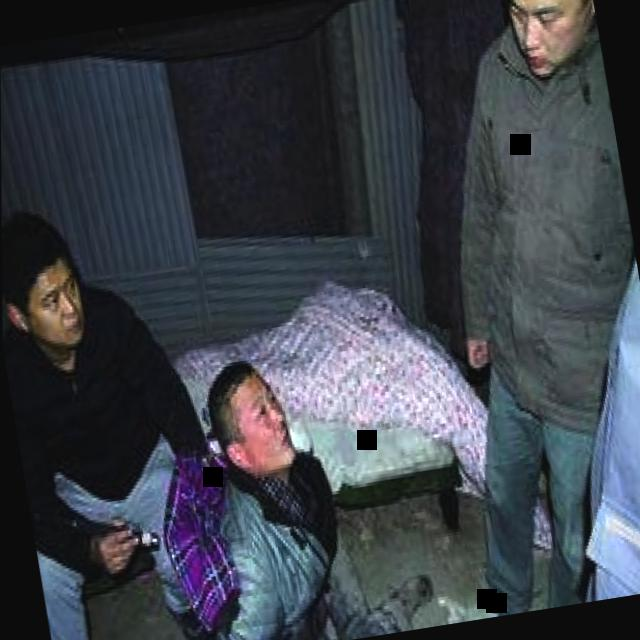Fall-Detected: (84, 315, 404, 640)
